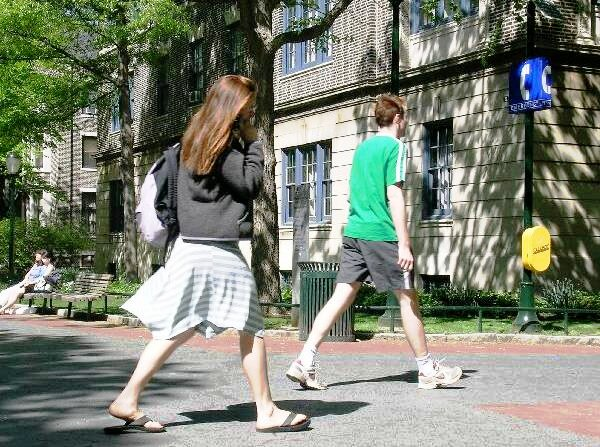person: (107, 71, 311, 434), (287, 91, 462, 392)
